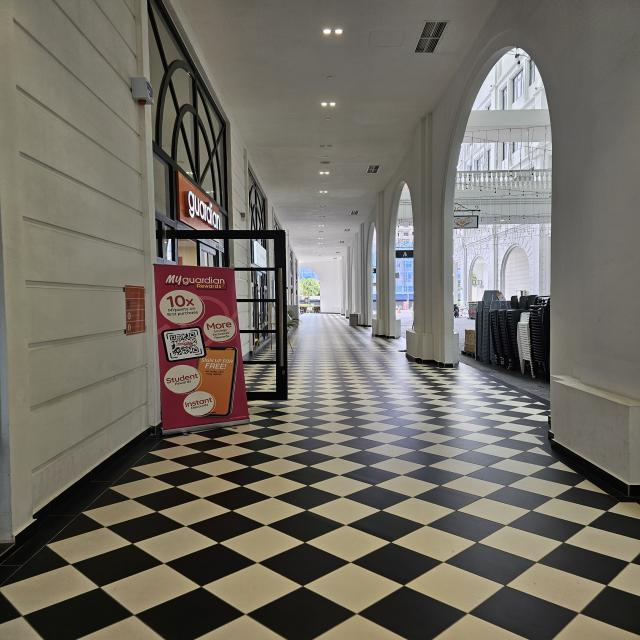footpath: (120, 429, 554, 640)
obstacle: (158, 226, 293, 418)
